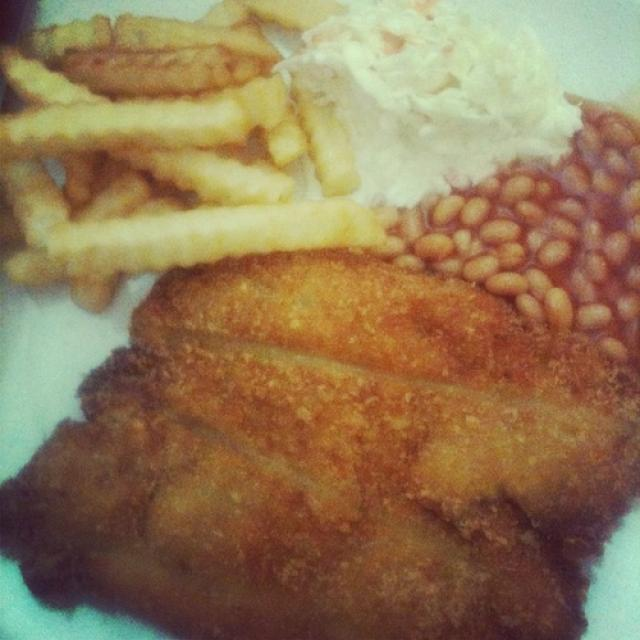鸡肉料理 含炸鸡: (27, 25, 612, 620)
